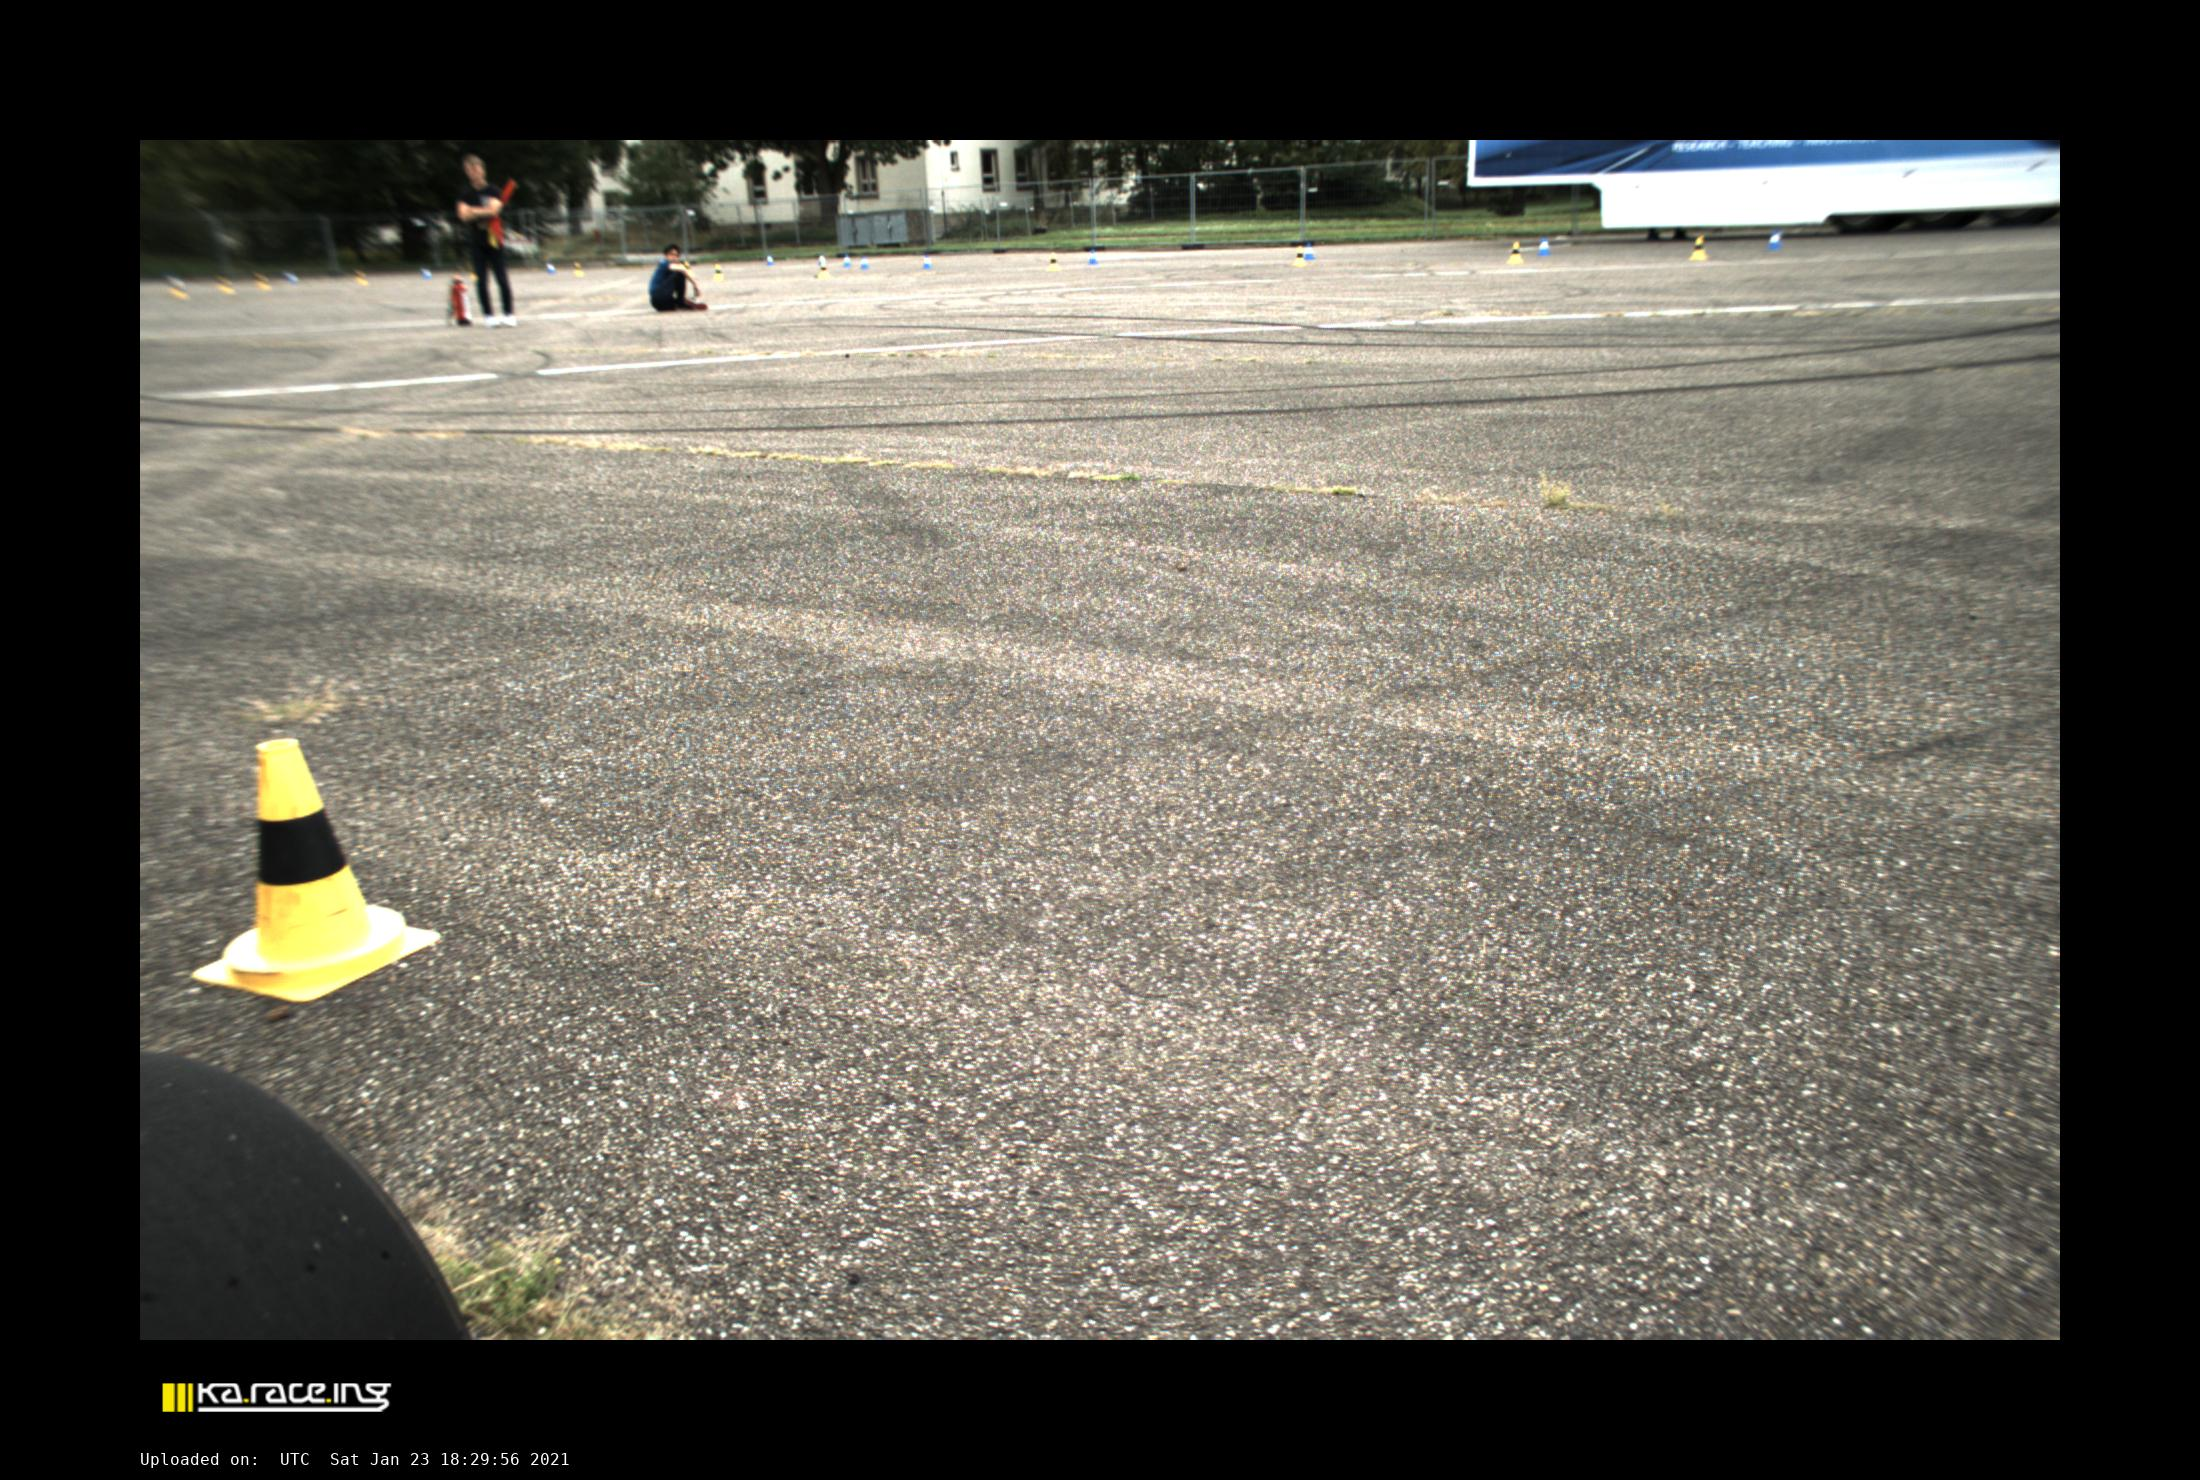blue_cone: (1767, 230, 1780, 249), (284, 273, 301, 286), (1538, 238, 1549, 256), (1305, 243, 1315, 259), (1088, 248, 1098, 264), (421, 268, 433, 281), (922, 254, 932, 269), (842, 254, 852, 268), (818, 253, 827, 266), (861, 254, 869, 269), (547, 263, 557, 274), (765, 254, 775, 264)
yellow_cone: (192, 738, 439, 1001), (1690, 236, 1708, 259), (1506, 241, 1524, 264), (254, 273, 273, 291), (216, 276, 235, 294), (1293, 246, 1306, 268), (353, 269, 370, 286), (1047, 253, 1062, 271), (818, 263, 832, 279), (714, 264, 723, 281), (685, 261, 695, 277), (575, 261, 585, 277)
